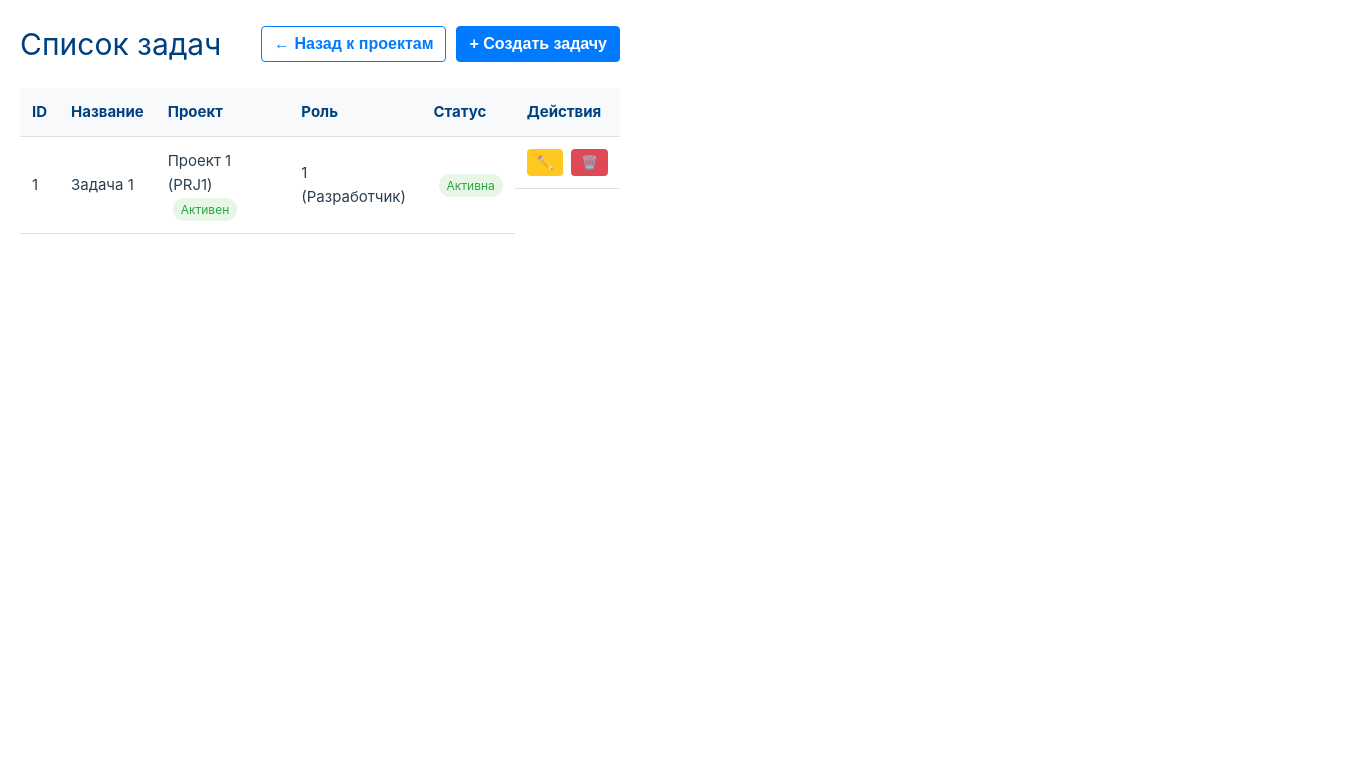
Test case: TasksView.vue › открывает модальное окно при клике на кнопку "Создать задачу"
Click the button with class "create-btn": (538, 44) [456, 26, 620, 62]
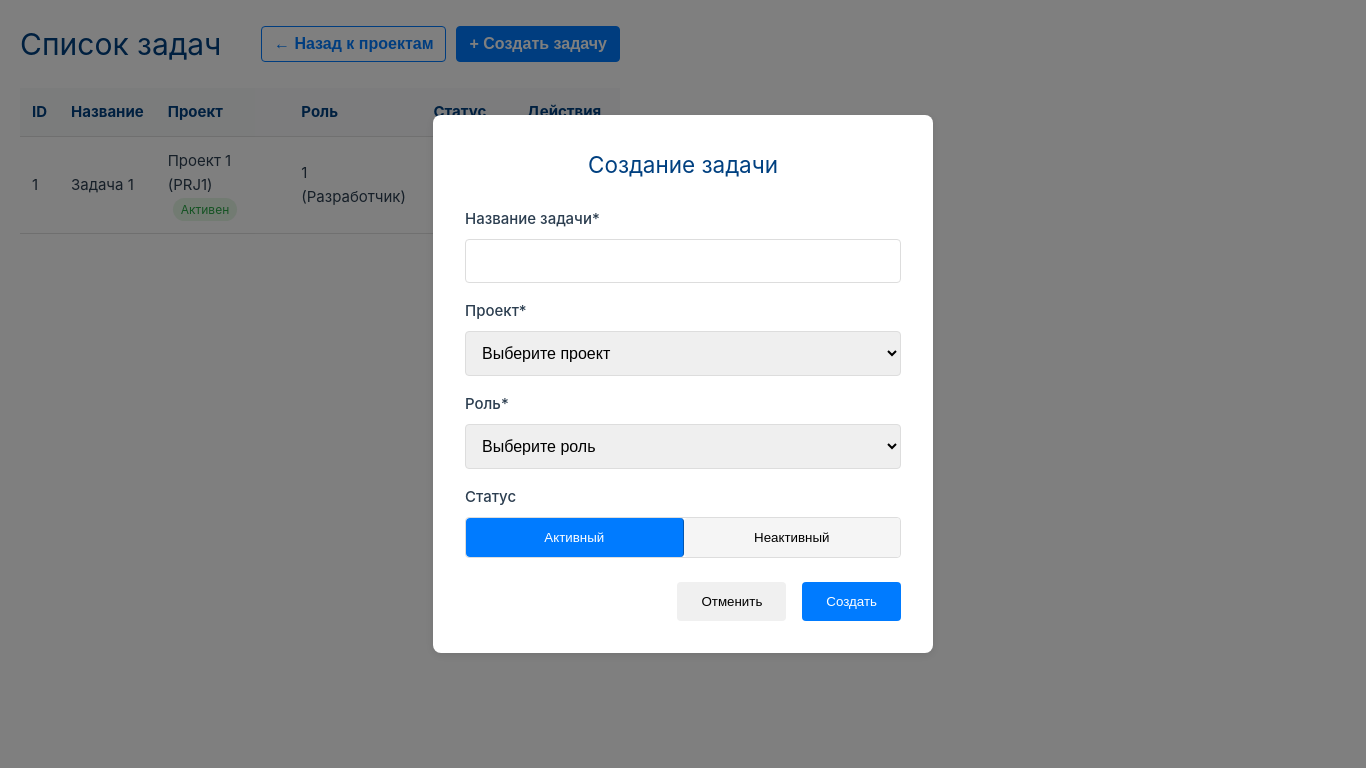
Check: the element that starts with "Создание задачи" is shown
